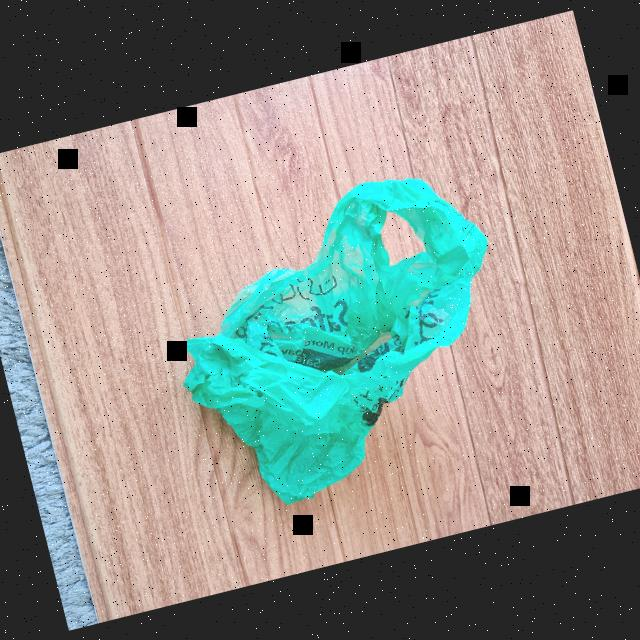plastic_bag: (145, 159, 543, 525)
